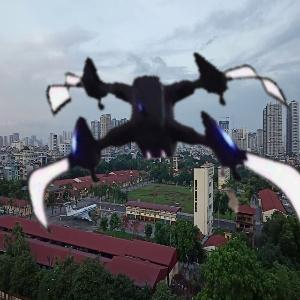drone: (11, 2, 300, 292)
